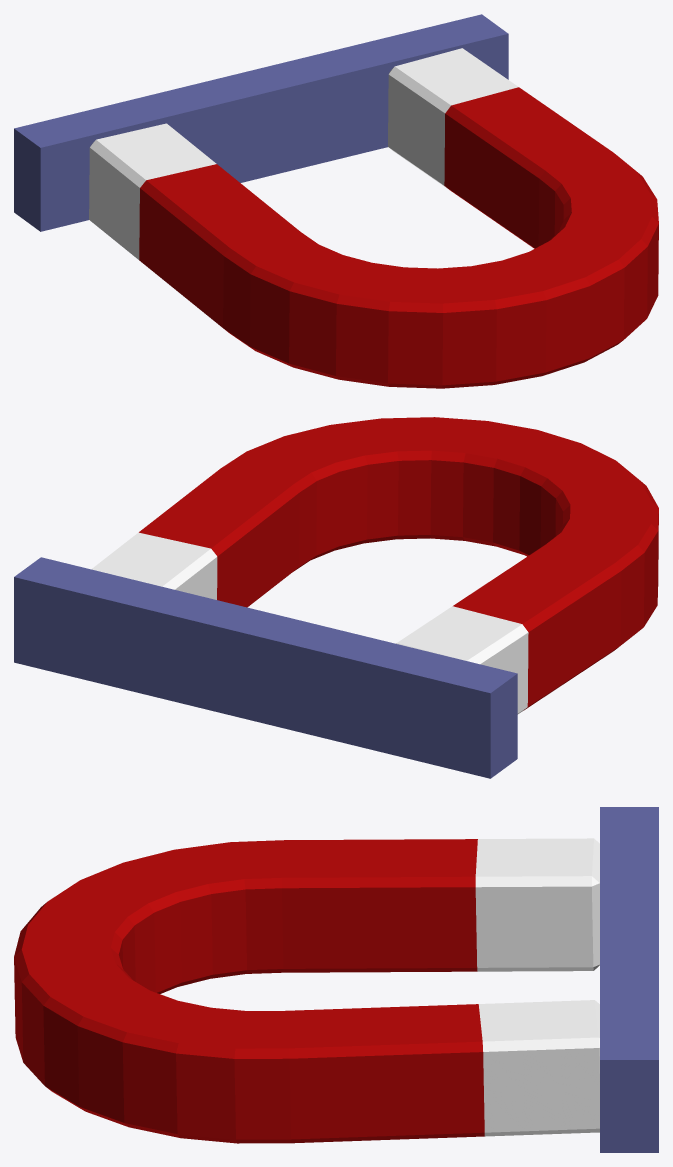
File: magnet_closed.glb
3 renders of one model, top to bottom at view 1: azimuth 30°, elevation 25°; view 2: azimuth 150°, elevation 25°; view 3: azimuth 270°, elevation 25°, orthographic. The views are drawn at different scales.
Visible parts, largest first — view 1: Buffer Layer, Box, Magnet; view 2: Buffer Layer, Box, Magnet; view 3: Buffer Layer, Magnet, Box.
Boxes of the visible parts, x1,y1,x2,y2 form: Buffer Layer: (139, 87, 658, 388); Box: (14, 14, 508, 231); Magnet: (89, 48, 518, 259); Buffer Layer: (139, 417, 658, 710); Box: (14, 557, 517, 778); Magnet: (91, 532, 528, 714); Buffer Layer: (14, 839, 484, 1143); Magnet: (475, 838, 599, 1136); Box: (600, 807, 658, 1152).
Bounding box in the file's own units: 0.2285 × 0.0451 × 0.2463.
